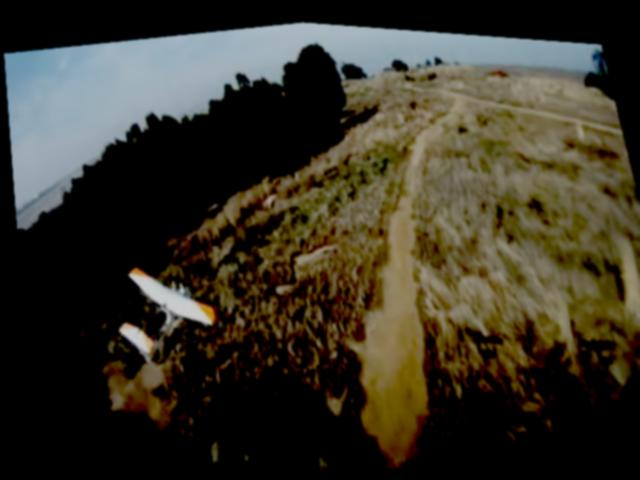uav: (95, 241, 228, 378)
